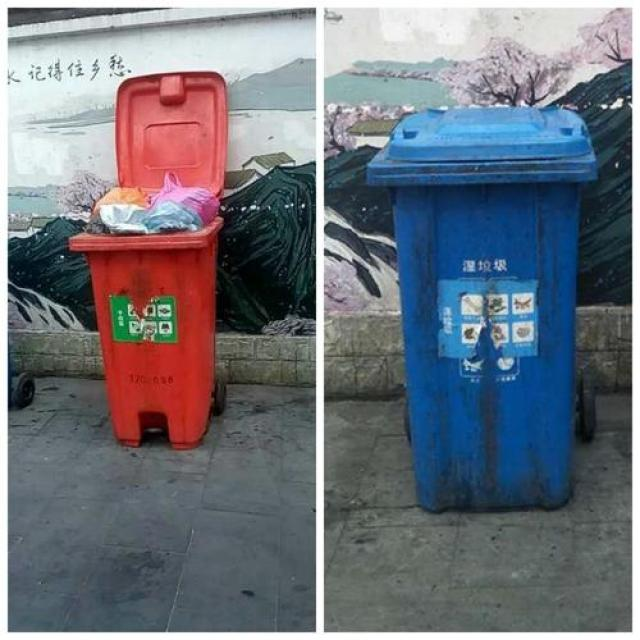garbage_bin: (364, 106, 596, 514)
overflow: (67, 166, 224, 448)
